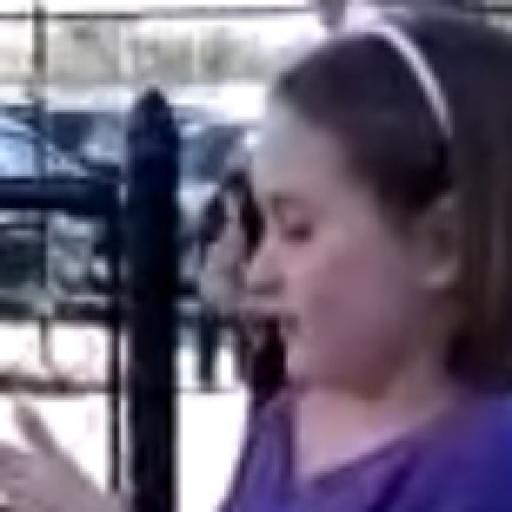Autism: (189, 28, 498, 500)
